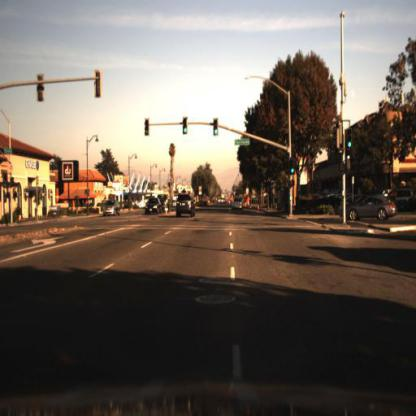car: (342, 192, 400, 227), (174, 188, 201, 221), (101, 196, 122, 221), (159, 191, 172, 216), (230, 196, 246, 215), (145, 196, 160, 216)
trafficLight-Green: (288, 156, 297, 179), (290, 155, 298, 180), (183, 125, 188, 140), (213, 128, 219, 140)
